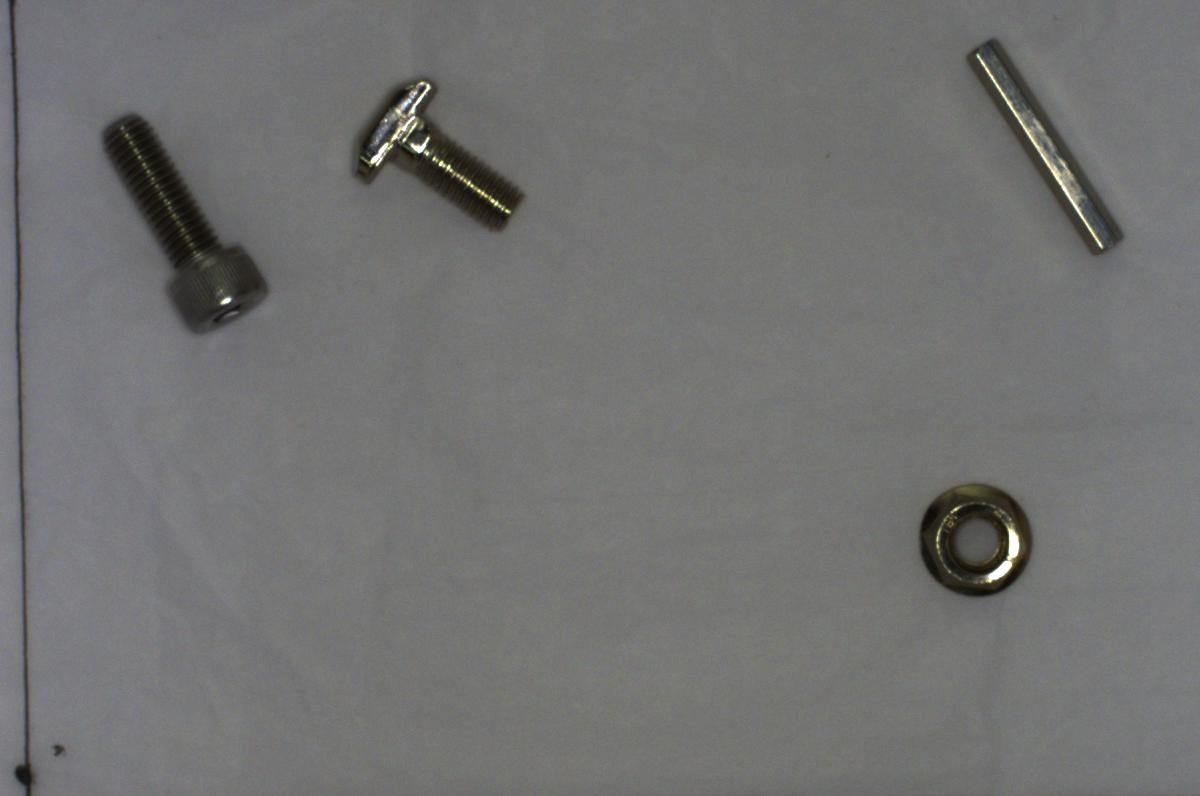Double hexagonal column: (957, 28, 1131, 261)
Flange nut: (910, 478, 1045, 601)
Hexagon screw: (88, 102, 275, 342)
T-shaped screw: (340, 70, 534, 238)
